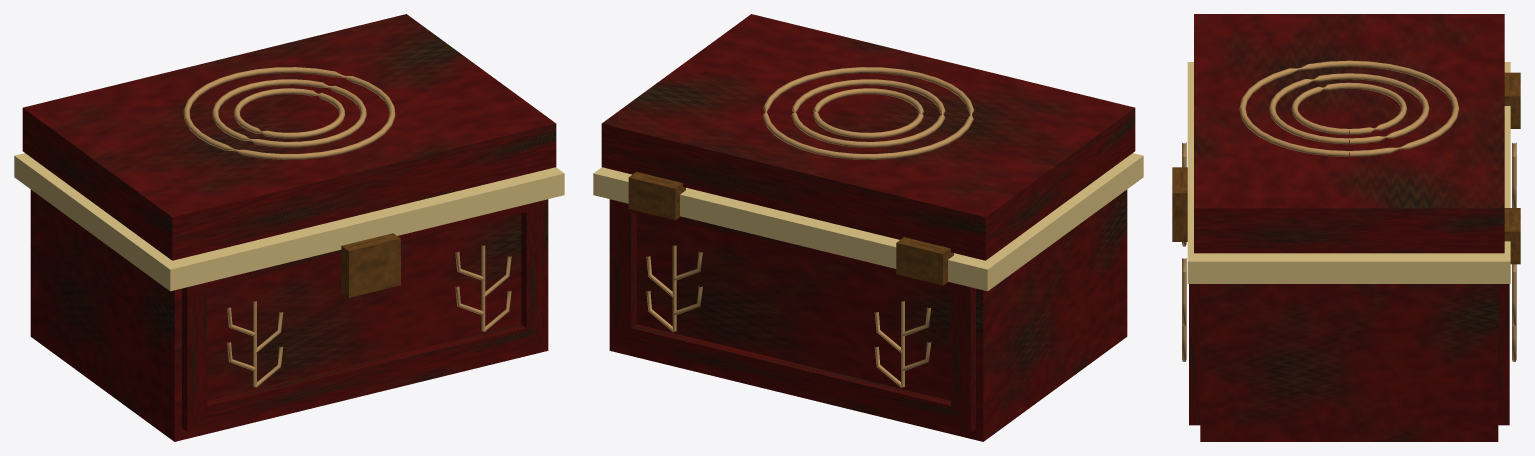
File: jewelry_box.glb
3 renders of one model, left to right at view 1: azimuth 30°, elevation 25°; view 2: azimuth 150°, elevation 25°; view 3: azimuth 270°, elevation 25°, orthographic. The views are drawn at different scales.
Visible parts, largest first — view 1: Lid, Body, Art_BurntLacquer, Trim, Art_OldGoldThread_Lid, Art_OxidizedBrass, Art_OldGoldThread; view 2: Lid, Body, Art_BurntLacquer, Trim, Art_OldGoldThread_Lid, Art_OxidizedBrass, Art_OldGoldThread; view 3: Lid, Body, Trim, Art_OldGoldThread_Lid, Art_BurntLacquer, Art_OxidizedBrass, Art_OldGoldThread.
Boxes of the visible parts, x1,y1,x2,y2 form: Lid: [22, 14, 556, 260]; Body: [30, 189, 548, 441]; Art_BurntLacquer: [182, 200, 546, 431]; Trim: [14, 153, 564, 291]; Art_OldGoldThread_Lid: [183, 67, 395, 159]; Art_OxidizedBrass: [341, 233, 400, 297]; Art_OldGoldThread: [226, 245, 511, 387]; Lid: [601, 14, 1135, 260]; Body: [609, 189, 1127, 441]; Art_BurntLacquer: [611, 200, 975, 431]; Trim: [593, 153, 1143, 291]; Art_OldGoldThread_Lid: [762, 67, 974, 159]; Art_OxidizedBrass: [628, 172, 953, 285]; Art_OldGoldThread: [646, 245, 931, 387]; Lid: [1194, 14, 1504, 253]; Body: [1200, 284, 1498, 441]; Trim: [1187, 62, 1510, 283]; Art_OldGoldThread_Lid: [1239, 60, 1459, 156]; Art_BurntLacquer: [1189, 284, 1509, 425]; Art_OxidizedBrass: [1172, 72, 1520, 264]; Art_OldGoldThread: [1182, 142, 1516, 361].
Size of the model in its own units: 0.38 by 0.2146 by 0.2805.
5 materials, 3 textured.
